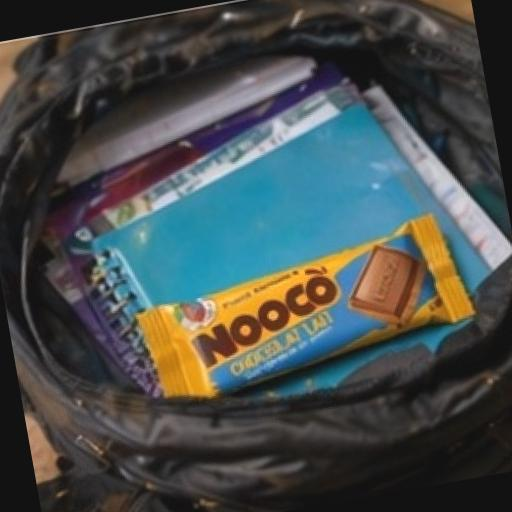nooco: (101, 206, 504, 440)
